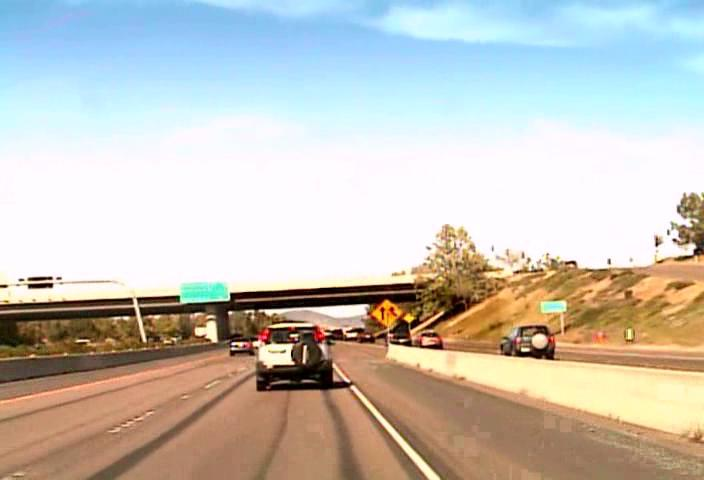addedLane: (370, 298, 403, 327)
